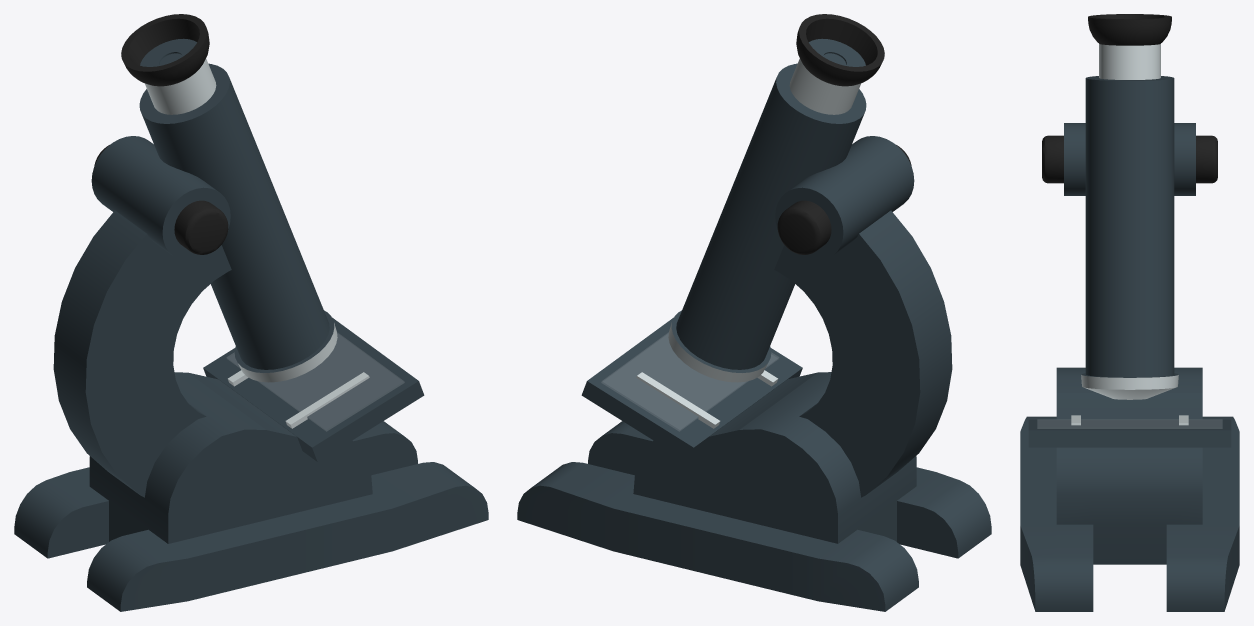
The model's file is microscope.gltf.
3 renders of one model, left to right at view 1: azimuth 30°, elevation 25°; view 2: azimuth 150°, elevation 25°; view 3: azimuth 270°, elevation 25°, orthographic. The views are drawn at different scales.
Visible parts, largest first — view 1: Cube.1004; view 2: Cube.1004; view 3: Cube.1004.
Part boxes in pixels (box(x1,y1,x2,y2)): Cube.1004: box(14, 14, 488, 611); Cube.1004: box(517, 14, 991, 611); Cube.1004: box(1020, 14, 1239, 611).
Size of the model in its own units: 1.69 by 2.31 by 0.9331.
2 materials, 1 textured.
